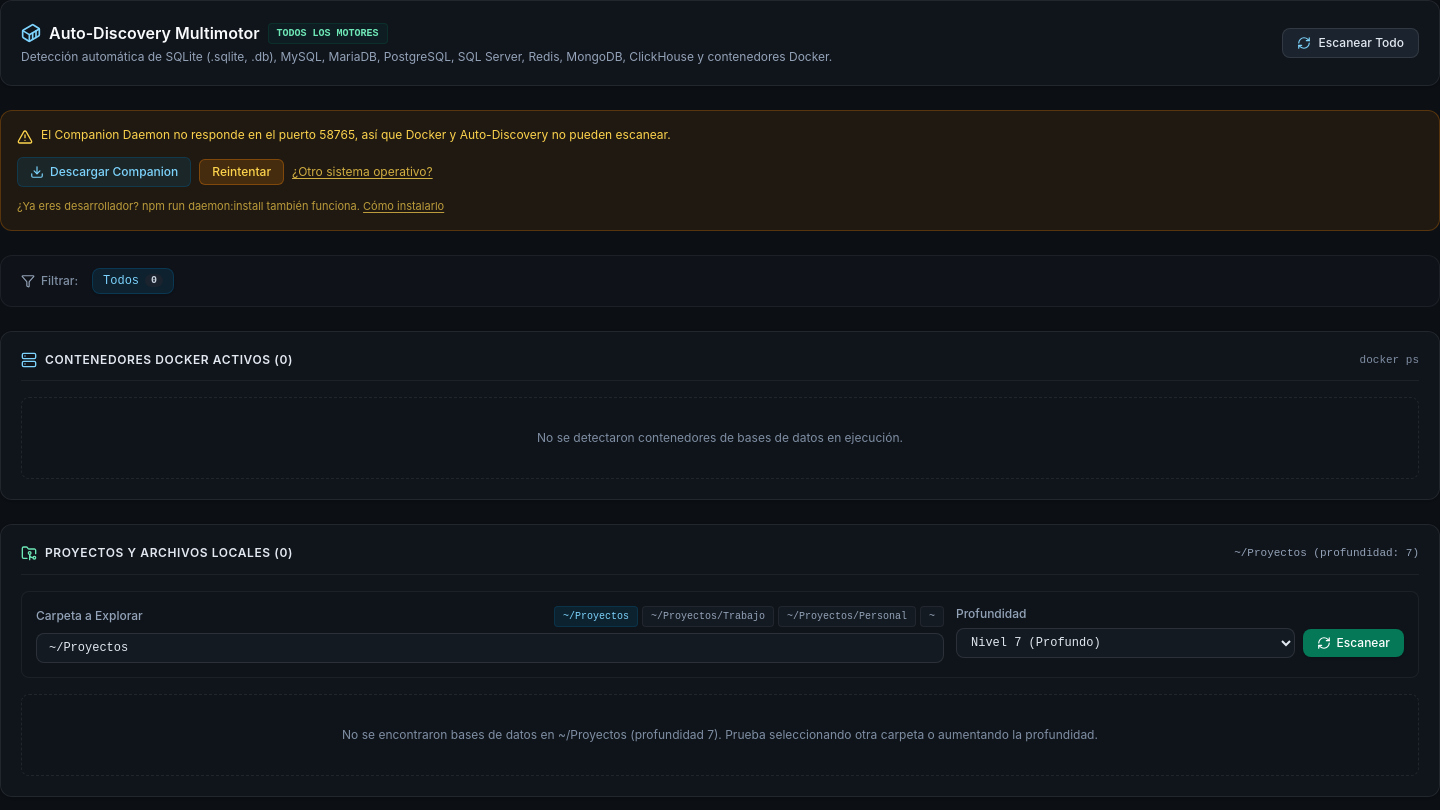
it: DiscoveryTab › hides the companion-offline banner once the daemon responds again
Click the button "Reintentar" at (242, 172), box [199, 159, 284, 185]
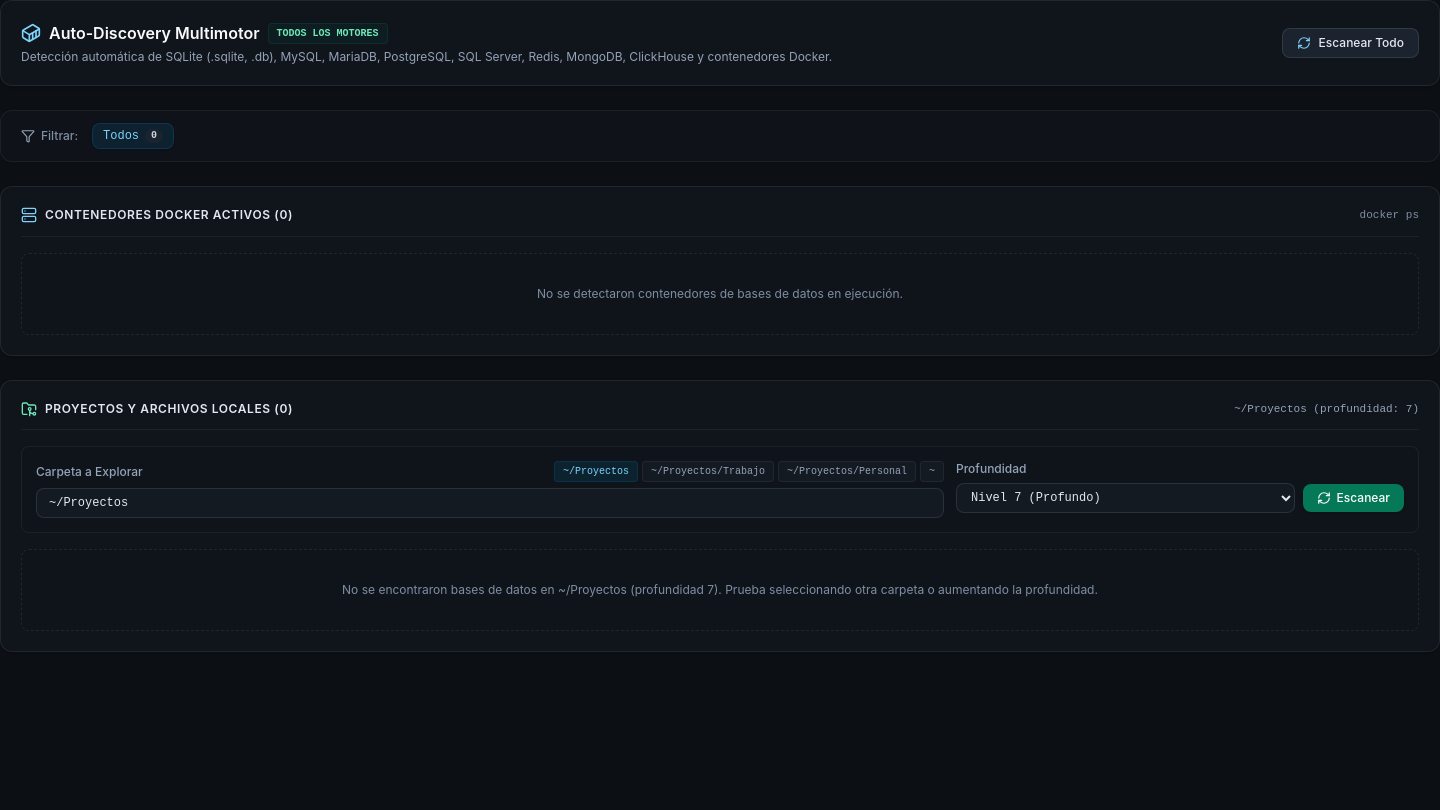
Result: the text "El Companion Daemon no responde" is gone
